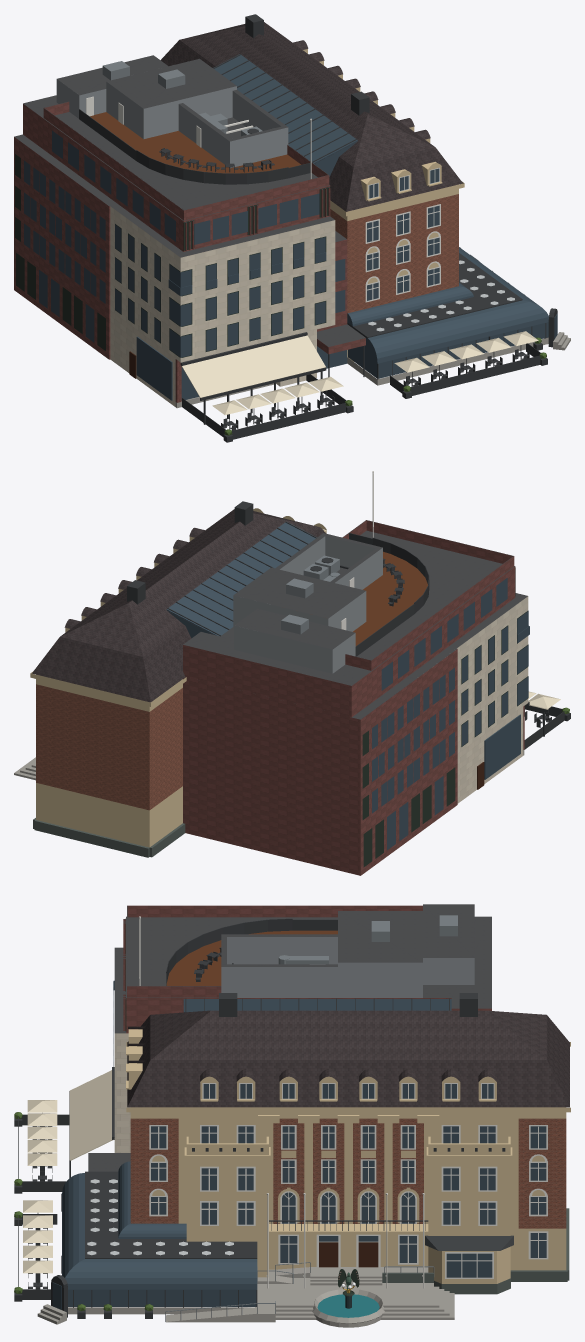
Rendered from foniks.glb.
3 views of the same model, one above another, from view 1: azimuth 30°, elevation 25°; view 2: azimuth 150°, elevation 25°; view 3: azimuth 270°, elevation 25° (orthographic). The views are drawn at different scales.
Visible parts, largest first — view 1: palette, glass, copper, travertine, slate, roof_felt, brick; view 2: copper, palette, slate, glass, brick, roof_felt, travertine; view 3: palette, slate, glass, roof_felt, brick, copper, travertine, water.
Boxes of the visible parts, x1,y1,x2,y2 form: palette: (15, 14, 570, 442); glass: (24, 54, 557, 400); copper: (14, 102, 365, 402); travertine: (110, 206, 335, 406); slate: (160, 22, 462, 211); roof_felt: (14, 55, 365, 346); brick: (330, 194, 458, 313); copper: (183, 520, 524, 875); palette: (14, 471, 570, 867); slate: (32, 509, 325, 702); glass: (166, 522, 529, 850); brick: (36, 684, 182, 810); roof_felt: (183, 520, 527, 719); travertine: (457, 596, 528, 803); palette: (14, 915, 570, 1327); slate: (127, 1010, 569, 1107); glass: (52, 980, 546, 1309); roof_felt: (88, 904, 491, 1171); brick: (130, 1118, 566, 1228); copper: (123, 905, 491, 1033); travertine: (114, 1033, 130, 1152); water: (317, 1294, 379, 1317).
Size of the model in its own units: 42.67 by 27.32 by 48.59.
Materials: 9 (5 with a texture image).
